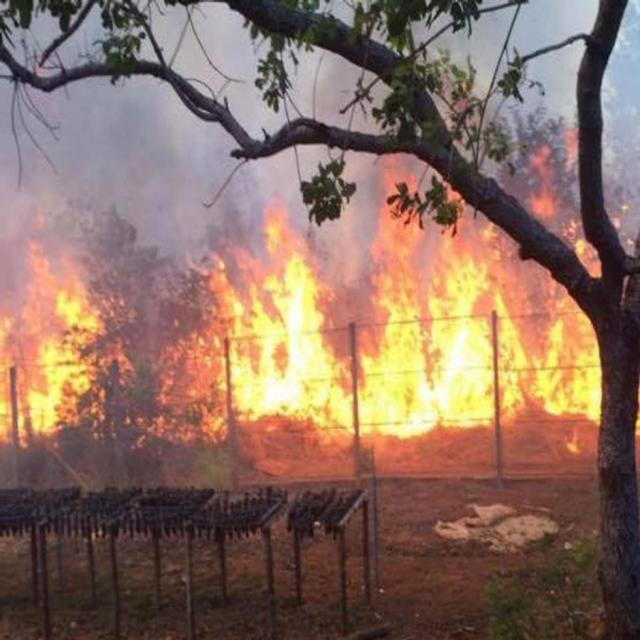fire: (168, 186, 610, 441), (23, 260, 106, 431)
